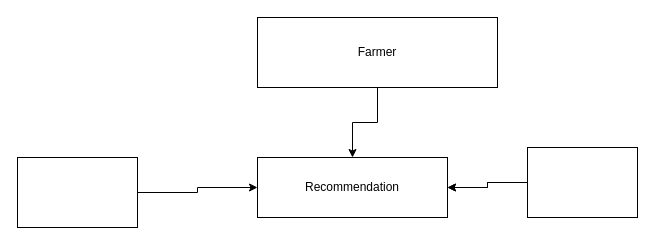
Some shapes in this 655 by 245 pixel diagram are drawn without their labels. Each missing label, with the centre of its shape:
crop: point 77,192
soil: point 582,182
